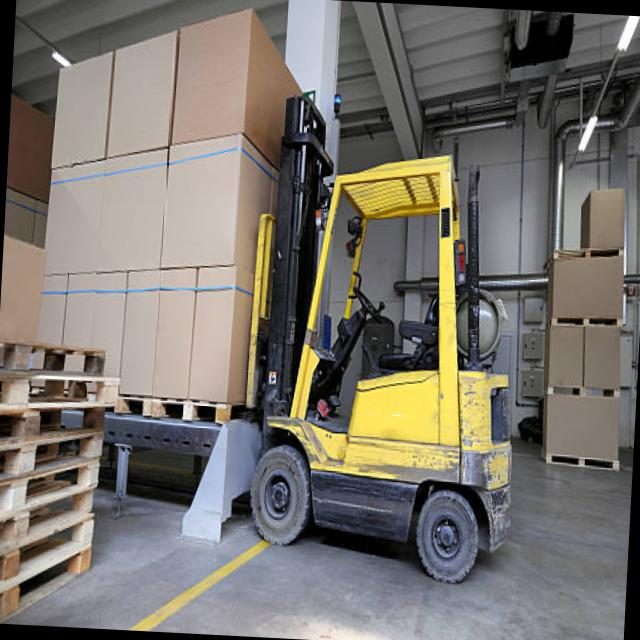Wooden-Pallets: (0, 510, 102, 596), (0, 371, 126, 419), (142, 394, 233, 439), (541, 445, 631, 481), (549, 308, 630, 335)
